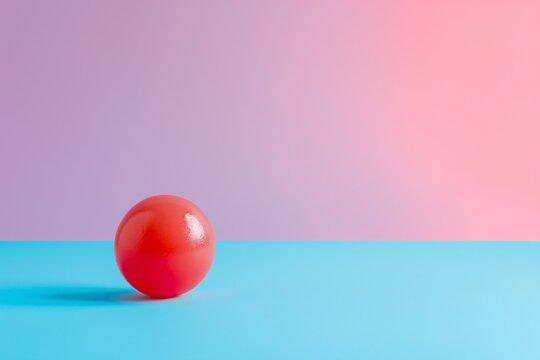Red_Ball: (102, 188, 223, 302)
